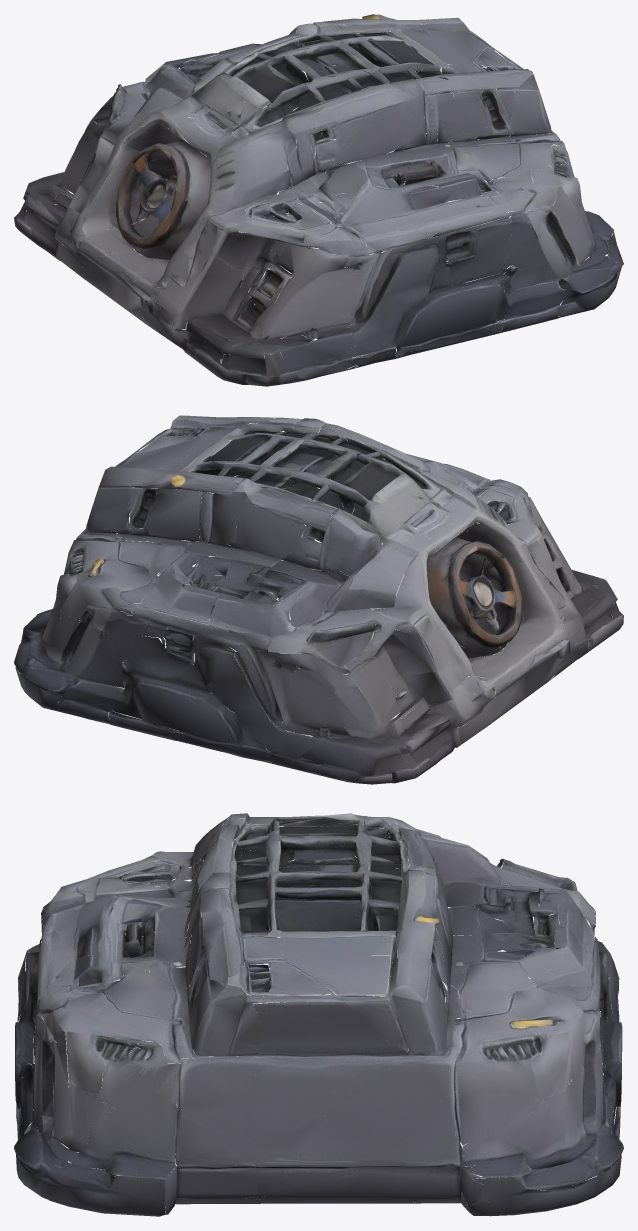
The model's file is missile_base.glb.
The picture shows the model from 3 angles, top to bottom: view 1: azimuth 30°, elevation 25°; view 2: azimuth 150°, elevation 25°; view 3: azimuth 270°, elevation 25°; orthographic projection. The views are drawn at different scales.
Parts seen in each view (by area): view 1: tripo_node_7a567871-1634-4a43-a126-0eac70bf401d; view 2: tripo_node_7a567871-1634-4a43-a126-0eac70bf401d; view 3: tripo_node_7a567871-1634-4a43-a126-0eac70bf401d.
Boxes of the visible parts, left/top/right/bottom form: tripo_node_7a567871-1634-4a43-a126-0eac70bf401d: left=14, top=14, right=623, bottom=386; tripo_node_7a567871-1634-4a43-a126-0eac70bf401d: left=14, top=415, right=623, bottom=784; tripo_node_7a567871-1634-4a43-a126-0eac70bf401d: left=14, top=813, right=623, bottom=1216.
Bounding box in the file's own units: 0.15 × 0.0676 × 0.1497.
1 material, 1 textured.
